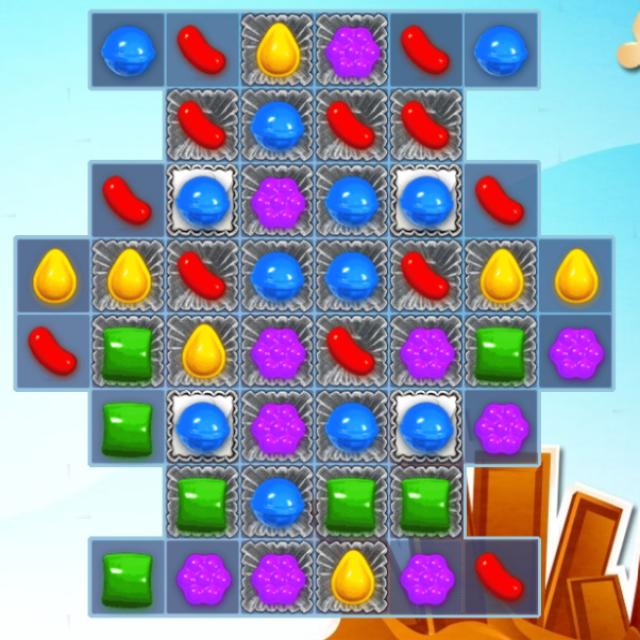blue: (92, 12, 164, 86), (240, 92, 312, 164), (466, 12, 535, 87), (242, 467, 311, 536), (166, 394, 237, 461), (242, 242, 312, 309), (319, 394, 386, 464), (169, 167, 236, 234), (317, 242, 385, 306), (318, 171, 382, 236), (394, 396, 461, 458), (396, 168, 457, 233)
green: (90, 542, 164, 618), (465, 314, 536, 386), (94, 391, 160, 463), (170, 469, 236, 539), (394, 468, 464, 534), (319, 469, 385, 537), (95, 320, 163, 384)
purple: (394, 537, 464, 613), (538, 316, 612, 386), (316, 15, 388, 86), (466, 394, 538, 464), (170, 541, 238, 614), (243, 317, 312, 386), (242, 544, 311, 613), (244, 392, 312, 460), (394, 317, 459, 386), (244, 169, 308, 234)
red: (165, 10, 237, 88), (16, 314, 87, 390), (466, 166, 538, 236), (168, 92, 237, 164), (468, 540, 536, 612), (391, 92, 460, 162), (90, 164, 162, 231), (170, 240, 237, 312), (318, 93, 388, 161), (318, 316, 384, 386), (393, 242, 457, 312), (395, 18, 459, 86)
yellow: (16, 237, 86, 314), (242, 12, 311, 87), (316, 541, 387, 611), (95, 238, 162, 311), (540, 242, 608, 312), (466, 242, 535, 310), (167, 320, 236, 384)
